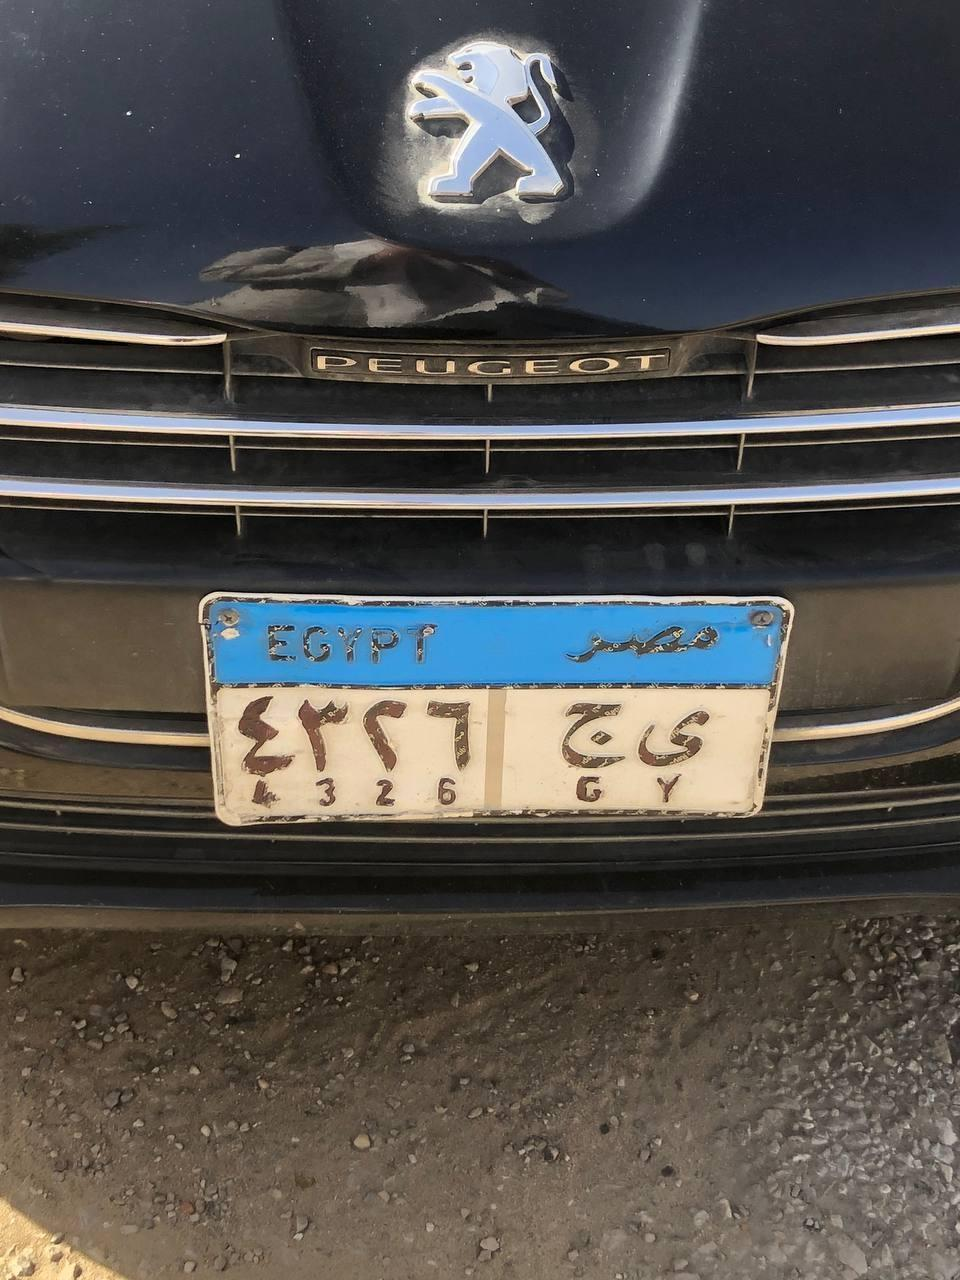2: (360, 688, 426, 772)
3: (296, 678, 353, 772)
4: (234, 690, 296, 780)
6: (422, 685, 488, 770)
License Plate: (197, 589, 795, 828)
Yeeh: (640, 696, 709, 766)
geem: (554, 690, 629, 776)
